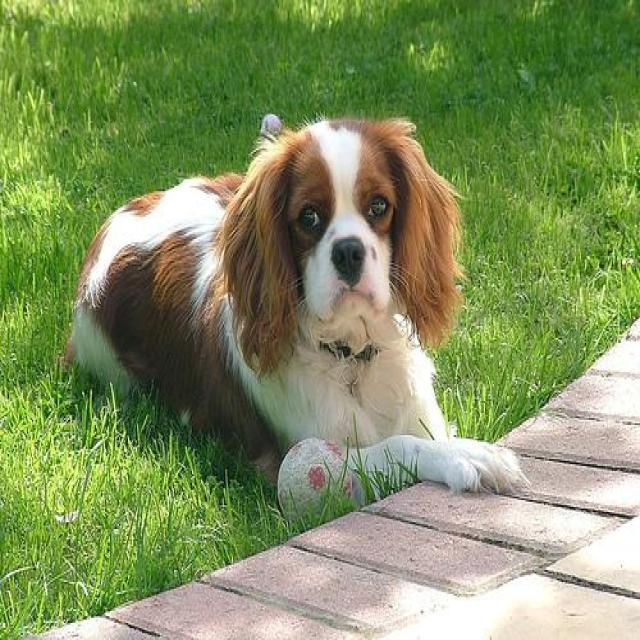blenheim_spaniel: (58, 108, 530, 496)
